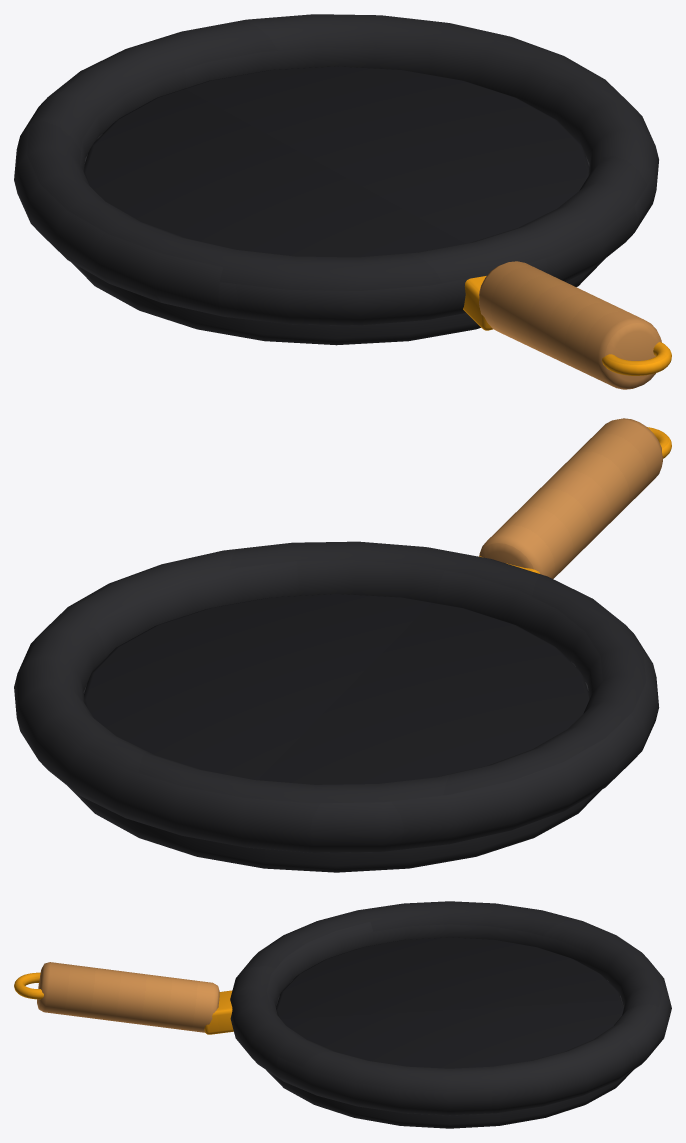
File: pan.glb
The picture shows the model from 3 angles, top to bottom: view 1: azimuth 30°, elevation 25°; view 2: azimuth 150°, elevation 25°; view 3: azimuth 270°, elevation 25°; orthographic projection. The views are drawn at different scales.
Parts seen in each view (by area): view 1: PanFlaredRim, PanInnerSurface, PanWoodHandle, PanBottom, PanHangRing, PanCollar; view 2: PanFlaredRim, PanInnerSurface, PanWoodHandle, PanBottom; view 3: PanFlaredRim, PanInnerSurface, PanWoodHandle, PanBottom, PanCollar, PanHangRing.
Boxes of the visible parts, bbox=[...] form: PanFlaredRim: bbox=[14, 14, 658, 325]; PanInnerSurface: bbox=[84, 66, 589, 257]; PanWoodHandle: bbox=[479, 261, 661, 389]; PanBottom: bbox=[71, 134, 604, 345]; PanHangRing: bbox=[602, 342, 671, 375]; PanCollar: bbox=[463, 276, 492, 330]; PanFlaredRim: bbox=[14, 541, 659, 852]; PanInnerSurface: bbox=[84, 594, 589, 784]; PanWoodHandle: bbox=[479, 418, 662, 578]; PanBottom: bbox=[68, 662, 601, 872]; PanFlaredRim: bbox=[230, 901, 671, 1115]; PanInnerSurface: bbox=[276, 937, 623, 1068]; PanWoodHandle: bbox=[37, 962, 219, 1032]; PanBottom: bbox=[266, 980, 633, 1128]; PanCollar: bbox=[204, 990, 233, 1034]; PanHangRing: bbox=[14, 972, 43, 999].
Bounding box in the file's own units: 0.594 × 0.1265 × 0.88.
4 materials, 4 textured.
